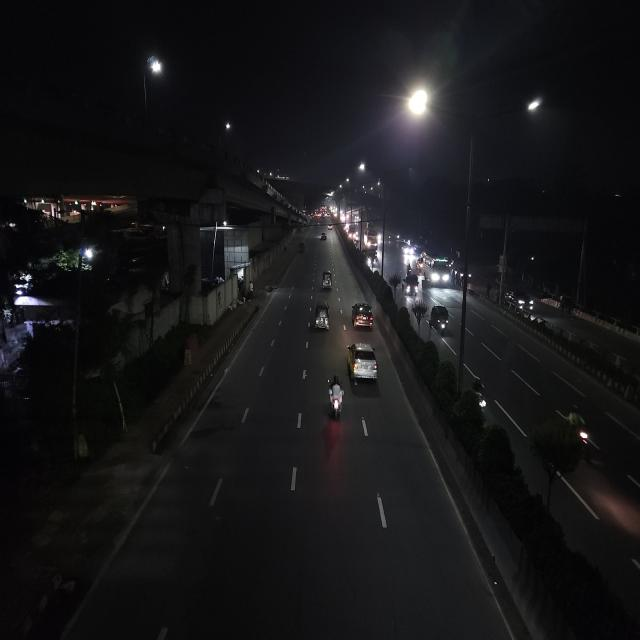bus: (425, 254, 451, 290)
car: (346, 339, 380, 389), (350, 299, 376, 331), (506, 290, 534, 314), (318, 230, 327, 242)
cng: (428, 302, 452, 337), (311, 299, 331, 334), (320, 268, 335, 291), (298, 242, 304, 254)
motorcycle: (324, 374, 347, 421), (470, 374, 491, 419)
pedestrian: (485, 280, 492, 302)
pickup_van: (403, 272, 419, 300)
